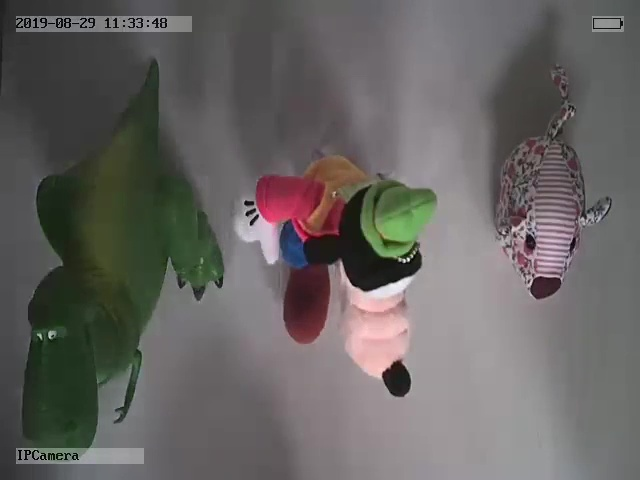goofy: (233, 155, 439, 399)
pig: (492, 64, 610, 299)
rex: (22, 57, 222, 445)
